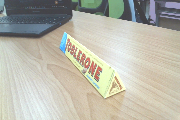Chocolate: (54, 31, 132, 101)
